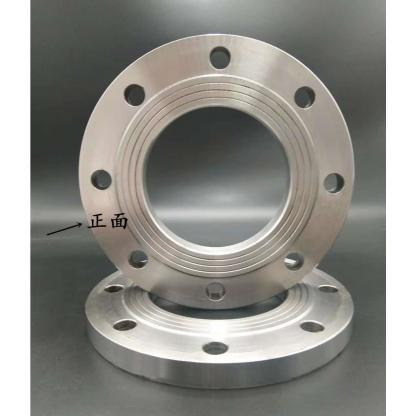FOD: (76, 30, 357, 314), (81, 245, 358, 389)
